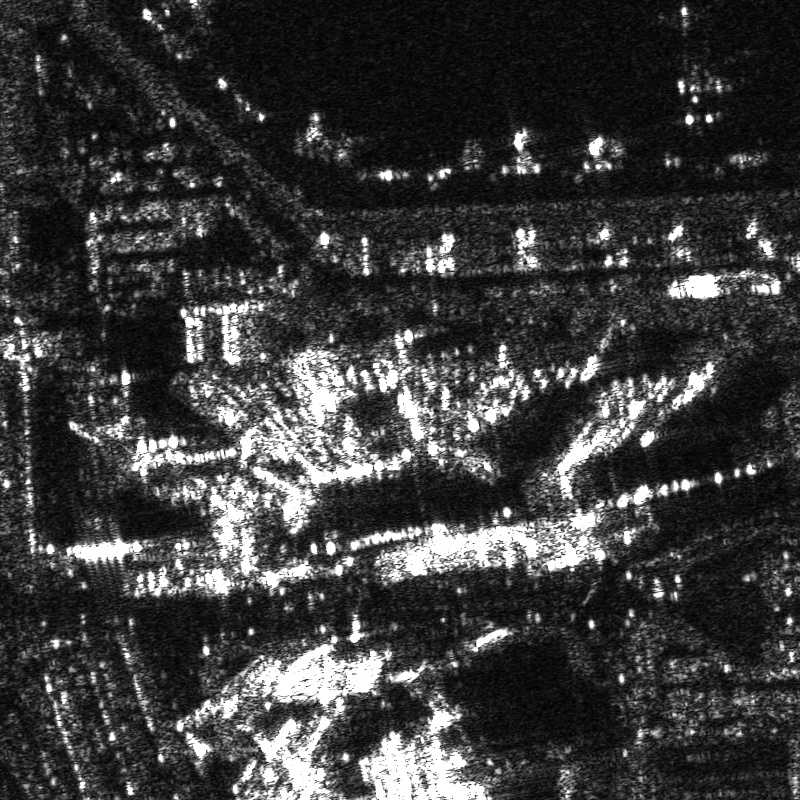A220: (151, 1, 255, 30)
Boeing787: (660, 2, 741, 136)
